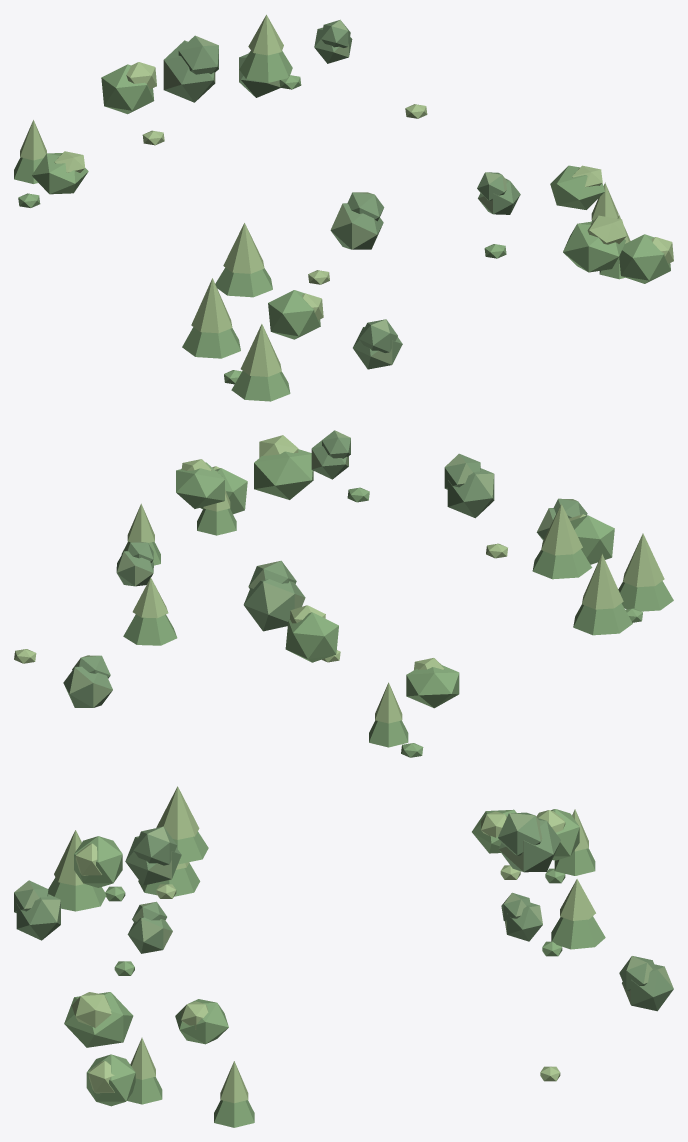
Rendered from path_cliff_passage_wind_canopies.fbx.
The picture shows the model from 3 angles, top to bottom: view 1: azimuth 30°, elevation 25°; view 2: azimuth 150°, elevation 25°; view 3: azimuth 270°, elevation 25°; orthographic projection. The views are drawn at different scales.
Parts seen in each view (by area): view 1: chunk_path_cliff_passage__finish_tree_05_canopy, chunk_path_cliff_passage__finish_tree_03_canopy, chunk_path_cliff_passage__tree_canopy_15, chunk_path_cliff_passage__tree_canopy_27, chunk_path_cliff_passage__tree_canopy_36, chunk_path_cliff_passage__finish_tree_01_canopy, chunk_path_cliff_passage__tree_canopy_17, chunk_path_cliff_passage__tree_canopy_31, chunk_path_cliff_passage__tree_canopy_07, chunk_path_cliff_passage__tree_canopy_03, chunk_path_cliff_passage__finish_tree_04_canopy, chunk_path_cliff_passage__tree_canopy_06 (+11 smaller); view 2: chunk_path_cliff_passage__finish_tree_05_canopy, chunk_path_cliff_passage__finish_tree_03_canopy, chunk_path_cliff_passage__tree_canopy_27, chunk_path_cliff_passage__tree_canopy_17, chunk_path_cliff_passage__finish_tree_02_canopy, chunk_path_cliff_passage__tree_canopy_07, chunk_path_cliff_passage__tree_canopy_31, chunk_path_cliff_passage__finish_tree_04_canopy, chunk_path_cliff_passage__tree_canopy_15, chunk_path_cliff_passage__tree_canopy_03, chunk_path_cliff_passage__finish_tree_06_canopy, chunk_path_cliff_passage__tree_canopy_02 (+13 smaller); view 3: chunk_path_cliff_passage__finish_tree_05_canopy, chunk_path_cliff_passage__finish_tree_03_canopy, chunk_path_cliff_passage__finish_tree_01_canopy, chunk_path_cliff_passage__finish_tree_02_canopy, chunk_path_cliff_passage__tree_canopy_27, chunk_path_cliff_passage__finish_tree_04_canopy, chunk_path_cliff_passage__finish_tree_06_canopy, chunk_path_cliff_passage__tree_canopy_15, chunk_path_cliff_passage__tree_canopy_36, chunk_path_cliff_passage__tree_canopy_24, chunk_path_cliff_passage__tree_canopy_31, chunk_path_cliff_passage__tree_canopy_06 (+15 smaller).
Part boxes in pixels (bbox=[...]): chunk_path_cliff_passage__finish_tree_05_canopy: bbox=[163, 35, 218, 102]; chunk_path_cliff_passage__finish_tree_03_canopy: bbox=[330, 192, 384, 249]; chunk_path_cliff_passage__tree_canopy_15: bbox=[268, 290, 320, 339]; chunk_path_cliff_passage__tree_canopy_27: bbox=[563, 221, 625, 272]; chunk_path_cliff_passage__tree_canopy_36: bbox=[619, 234, 670, 283]; chunk_path_cliff_passage__finish_tree_01_canopy: bbox=[353, 319, 402, 369]; chunk_path_cliff_passage__tree_canopy_17: bbox=[101, 64, 154, 114]; chunk_path_cliff_passage__tree_canopy_31: bbox=[550, 165, 604, 209]; chunk_path_cliff_passage__tree_canopy_07: bbox=[32, 153, 88, 194]; chunk_path_cliff_passage__tree_canopy_03: bbox=[182, 327, 240, 358]; chunk_path_cliff_passage__finish_tree_04_canopy: bbox=[477, 172, 520, 214]; chunk_path_cliff_passage__tree_canopy_06: bbox=[231, 371, 290, 401]; chunk_path_cliff_passage__finish_tree_05_canopy: bbox=[243, 560, 305, 631]; chunk_path_cliff_passage__finish_tree_03_canopy: bbox=[444, 453, 494, 518]; chunk_path_cliff_passage__tree_canopy_27: bbox=[254, 449, 313, 499]; chunk_path_cliff_passage__tree_canopy_17: bbox=[285, 612, 338, 662]; chunk_path_cliff_passage__finish_tree_02_canopy: bbox=[63, 655, 112, 707]; chunk_path_cliff_passage__tree_canopy_07: bbox=[406, 665, 459, 708]; chunk_path_cliff_passage__tree_canopy_31: bbox=[176, 462, 224, 508]; chunk_path_cliff_passage__finish_tree_04_canopy: bbox=[311, 430, 350, 479]; chunk_path_cliff_passage__tree_canopy_15: bbox=[570, 515, 614, 564]; chunk_path_cliff_passage__tree_canopy_03: bbox=[573, 603, 632, 635]; chunk_path_cliff_passage__finish_tree_06_canopy: bbox=[116, 541, 153, 586]; chunk_path_cliff_passage__tree_canopy_02: bbox=[582, 554, 623, 609]; chunk_path_cliff_passage__finish_tree_05_canopy: bbox=[498, 812, 560, 872]; chunk_path_cliff_passage__finish_tree_03_canopy: bbox=[125, 826, 181, 885]; chunk_path_cliff_passage__finish_tree_01_canopy: bbox=[14, 880, 60, 940]; chunk_path_cliff_passage__finish_tree_02_canopy: bbox=[619, 956, 673, 1011]; chunk_path_cliff_passage__tree_canopy_27: bbox=[64, 992, 133, 1047]; chunk_path_cliff_passage__finish_tree_04_canopy: bbox=[127, 901, 172, 953]; chunk_path_cliff_passage__finish_tree_06_canopy: bbox=[501, 892, 542, 941]; chunk_path_cliff_passage__tree_canopy_15: bbox=[74, 836, 122, 887]; chunk_path_cliff_passage__tree_canopy_36: bbox=[86, 1054, 135, 1106]; chunk_path_cliff_passage__tree_canopy_24: bbox=[551, 916, 605, 949]; chunk_path_cliff_passage__tree_canopy_31: bbox=[175, 999, 228, 1044]; chunk_path_cliff_passage__tree_canopy_06: bbox=[48, 877, 106, 911].
Size of the model in its own units: 176 by 58.17 by 207.
